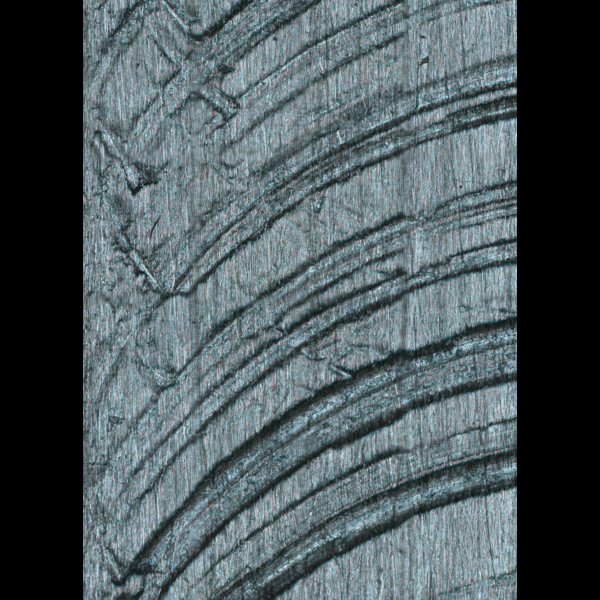d: (83, 0, 511, 595)
